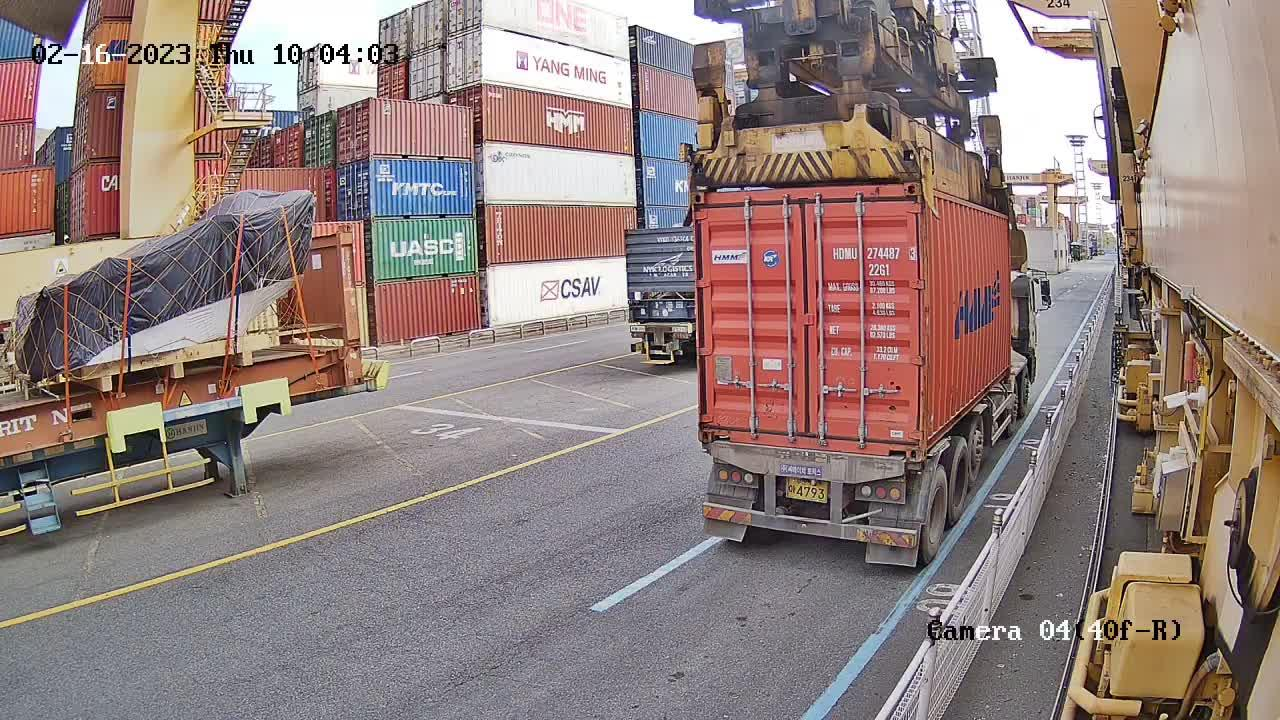Chassis: (701, 444, 918, 486)
Cone: (906, 462, 923, 477), (701, 445, 711, 459)
Hole_L: (697, 413, 735, 447)
Hole_R: (882, 425, 921, 457)
Tire: (922, 473, 949, 559), (951, 447, 971, 517), (972, 422, 984, 477)
